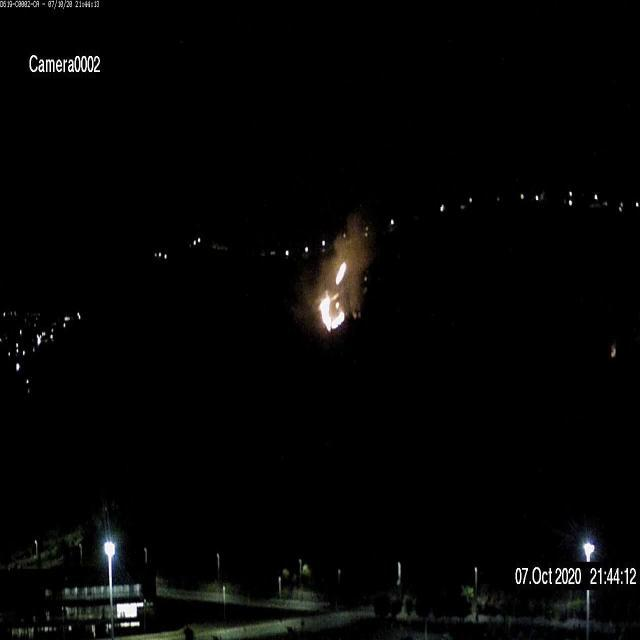Fire: (316, 254, 352, 330)
Smoke: (293, 208, 372, 334)
